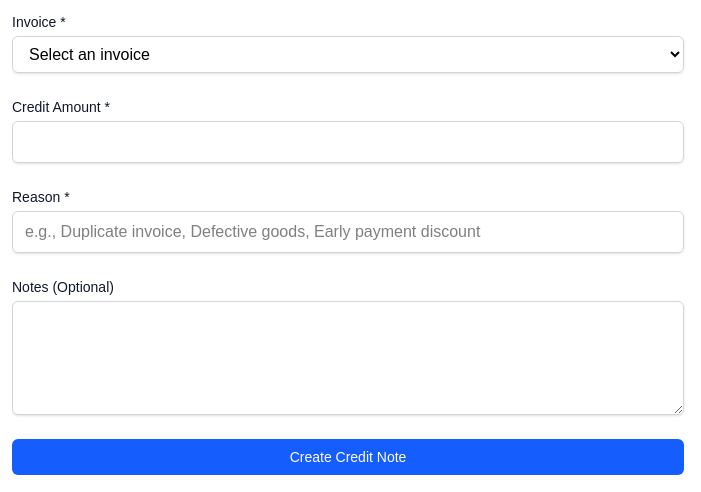
Test: CreateCreditNoteForm › shows both thresholds once an invoice is chosen
This screenshot has width=701, height=492.
Select "INV-0001 - Due: 300.00 AUD" in the dropdown labelled "Invoice *" at (348, 54), box [12, 36, 684, 73]
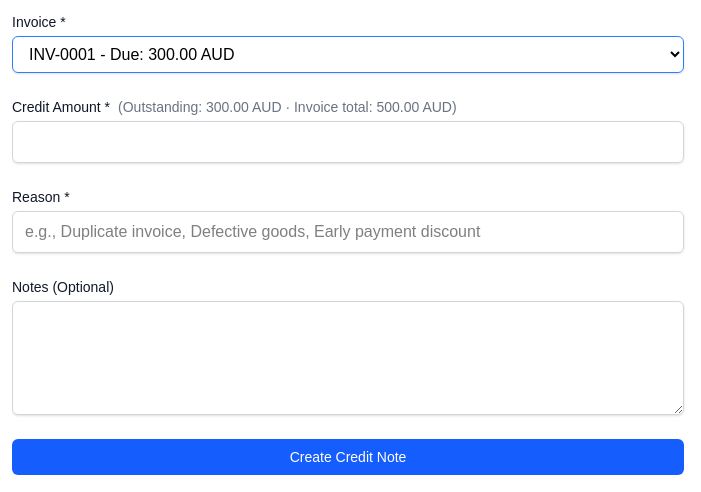
Result: the text "(Outstanding: 300.00 AUD · Invoice total: 500.00 AUD)" is shown at [118, 99, 457, 115]
